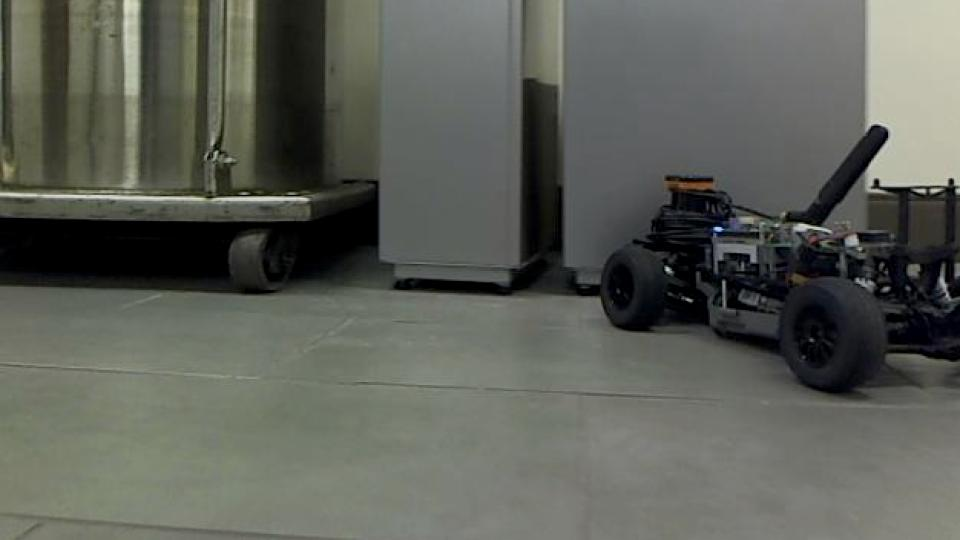car: (595, 121, 960, 396)
